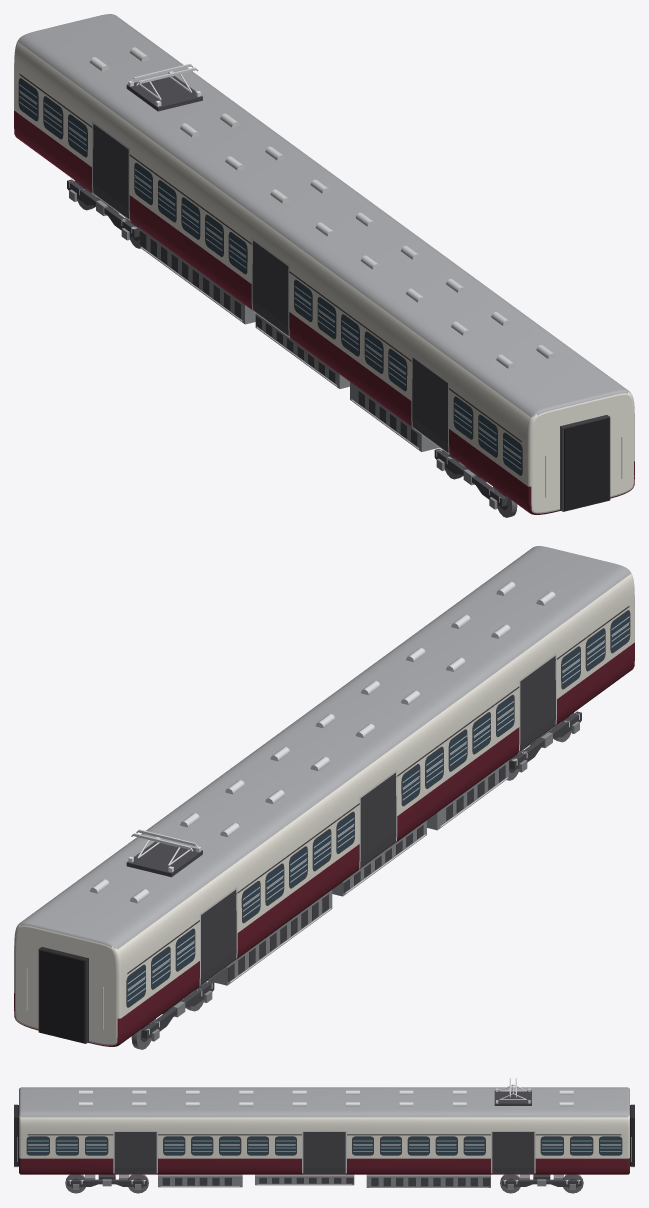
File: middle_4_close.fbx
The picture shows the model from 3 angles, top to bottom: view 1: azimuth 30°, elevation 25°; view 2: azimuth 150°, elevation 25°; view 3: azimuth 270°, elevation 25°; orthographic projection. The views are drawn at different scales.
Parts seen in each view (by area): view 1: 21_middle_4_close; view 2: 21_middle_4_close; view 3: 21_middle_4_close.
Part boxes in pixels (bbox=[...]): 21_middle_4_close: bbox=[14, 14, 634, 517]; 21_middle_4_close: bbox=[14, 546, 634, 1049]; 21_middle_4_close: bbox=[14, 1078, 634, 1193].
Size of the model in its own units: 2.98 by 4.35 by 25.
